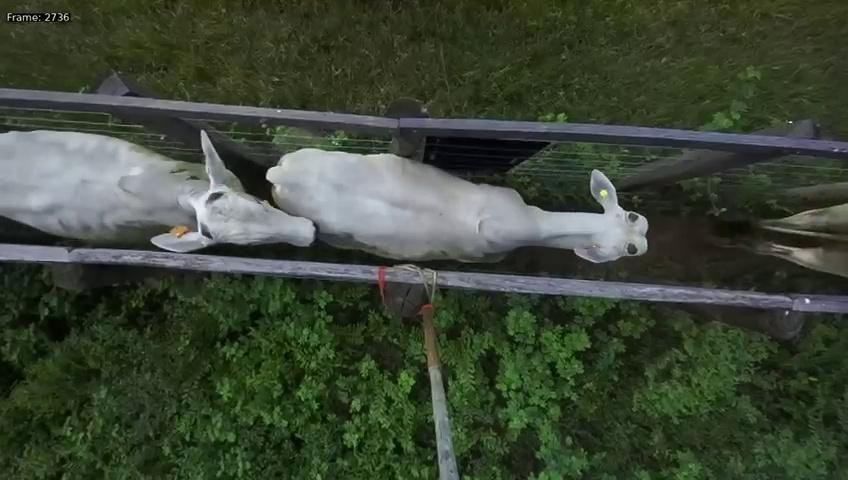cattle: (265, 123, 652, 265), (0, 124, 323, 253)
